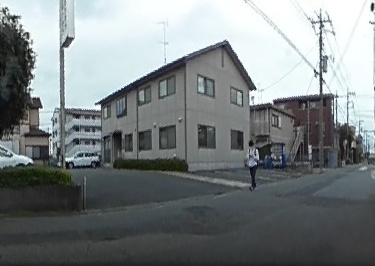person: (246, 138, 258, 188)
